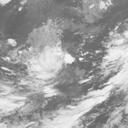cyclone: (24, 43, 75, 88)
